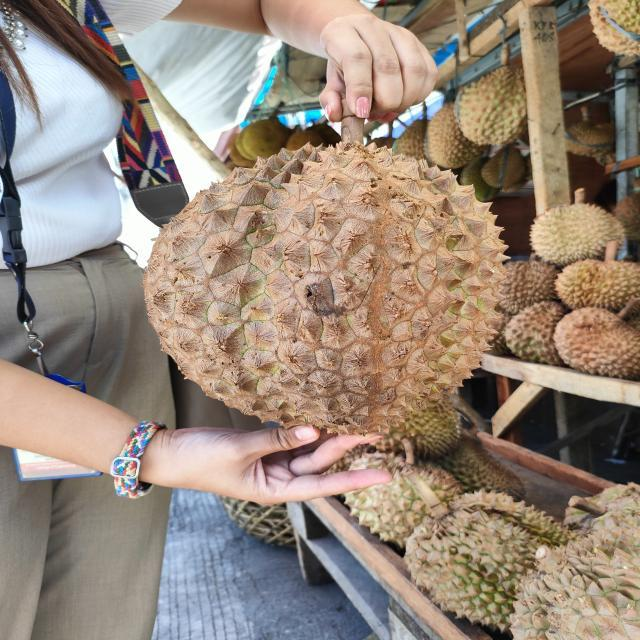mature: (140, 140, 511, 428)
